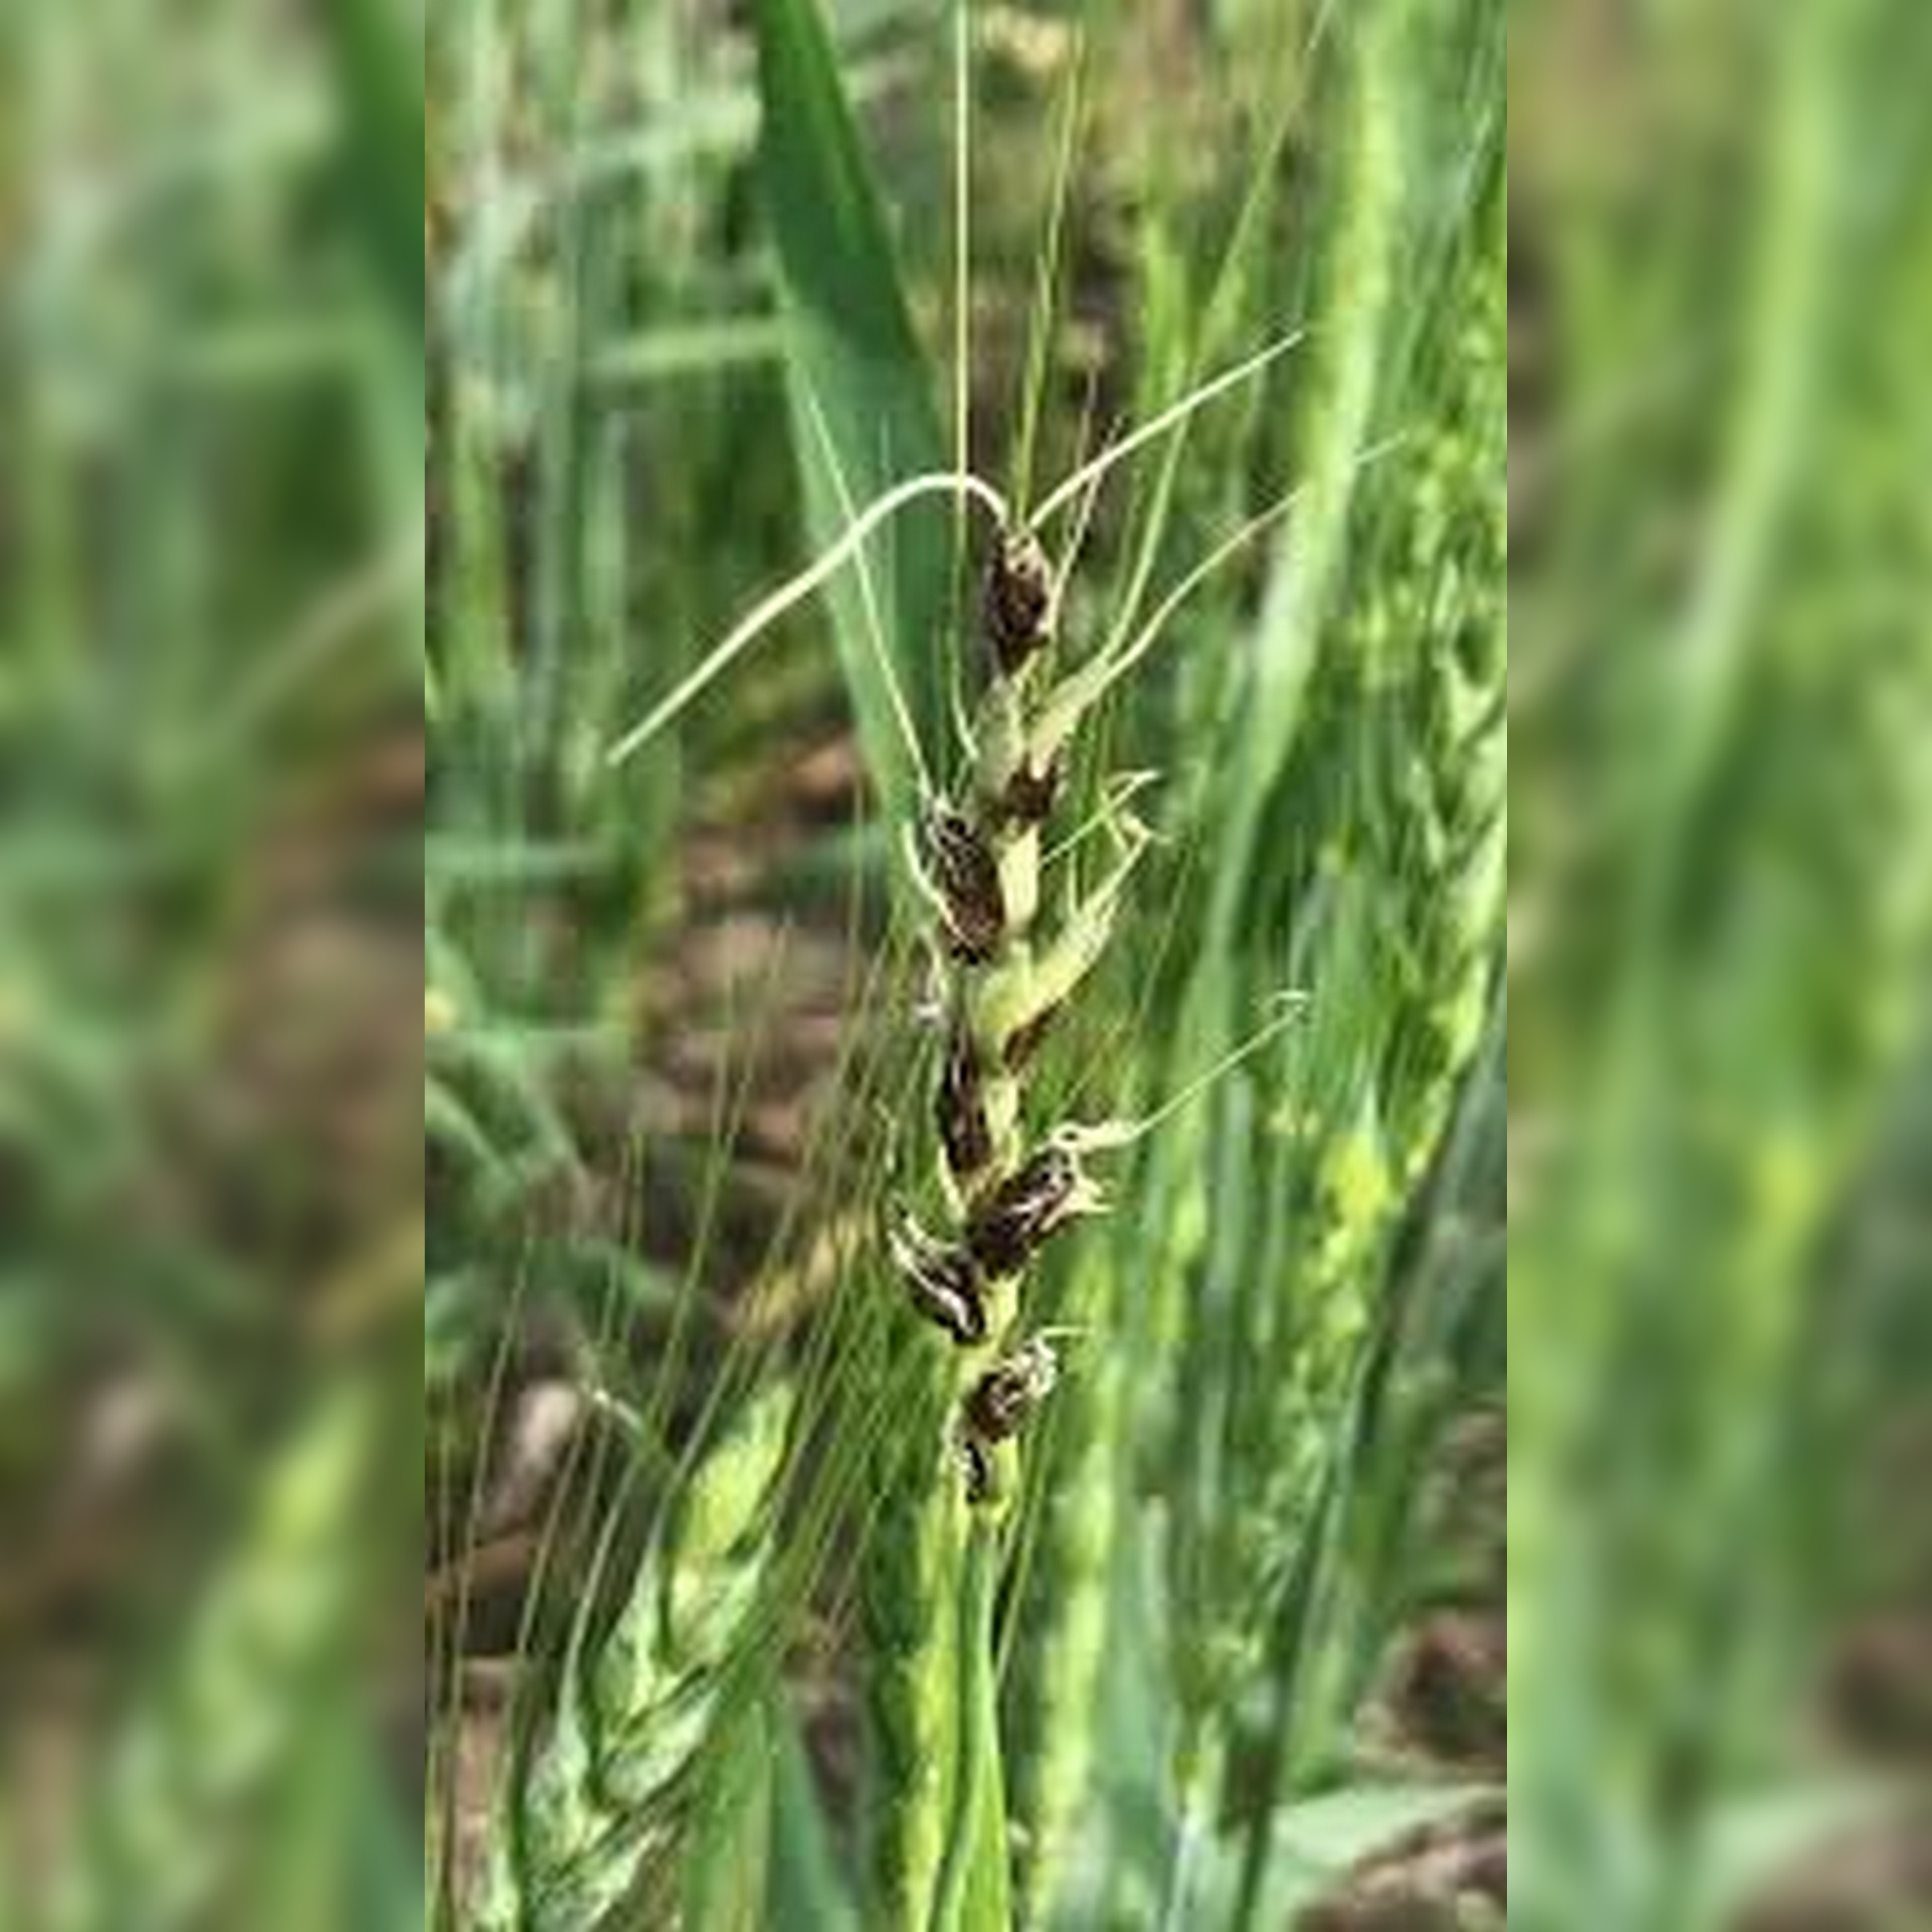Wheat Loose Smut: (851, 483, 1118, 1479)
